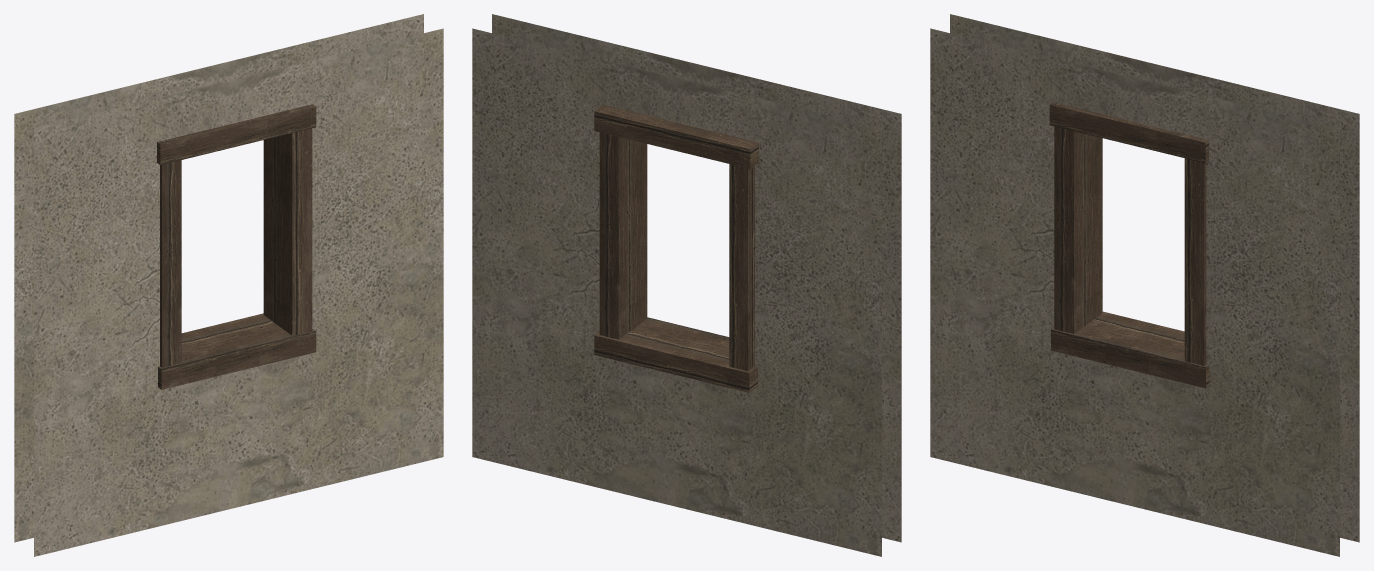
Rendered from ARC1010268.fbx.
3 views of the same model, side by side, from view 1: azimuth 30°, elevation 25°; view 2: azimuth 150°, elevation 25°; view 3: azimuth 330°, elevation 25° (orthographic).
Visible parts, largest first — view 1: smARC1010268; view 2: smARC1010268; view 3: smARC1010268.
Part boxes in pixels (x1,y1,x2,y2): smARC1010268: (14, 14, 443, 556); smARC1010268: (472, 14, 901, 556); smARC1010268: (930, 14, 1359, 556).
Bounding box in the file's own units: 268 × 268 × 36.12.
Materials: 1 (1 with a texture image).
